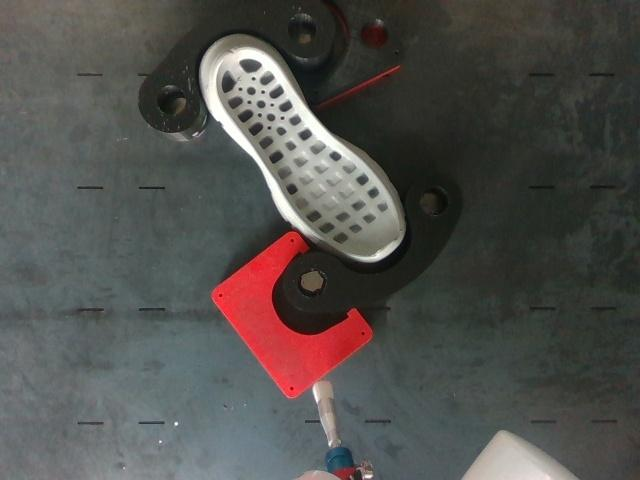shoes: (215, 48, 399, 260)
